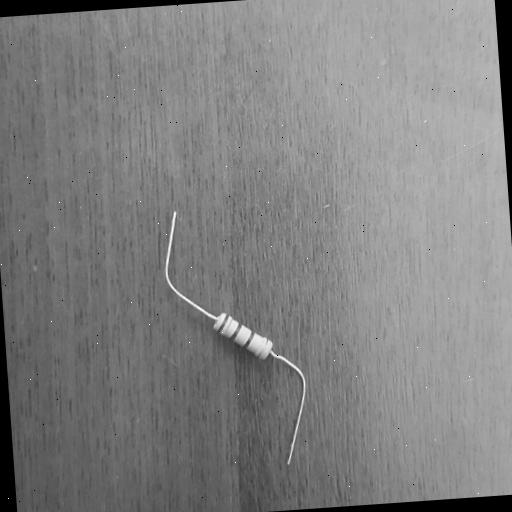RESISTOR: (164, 262, 324, 418)
